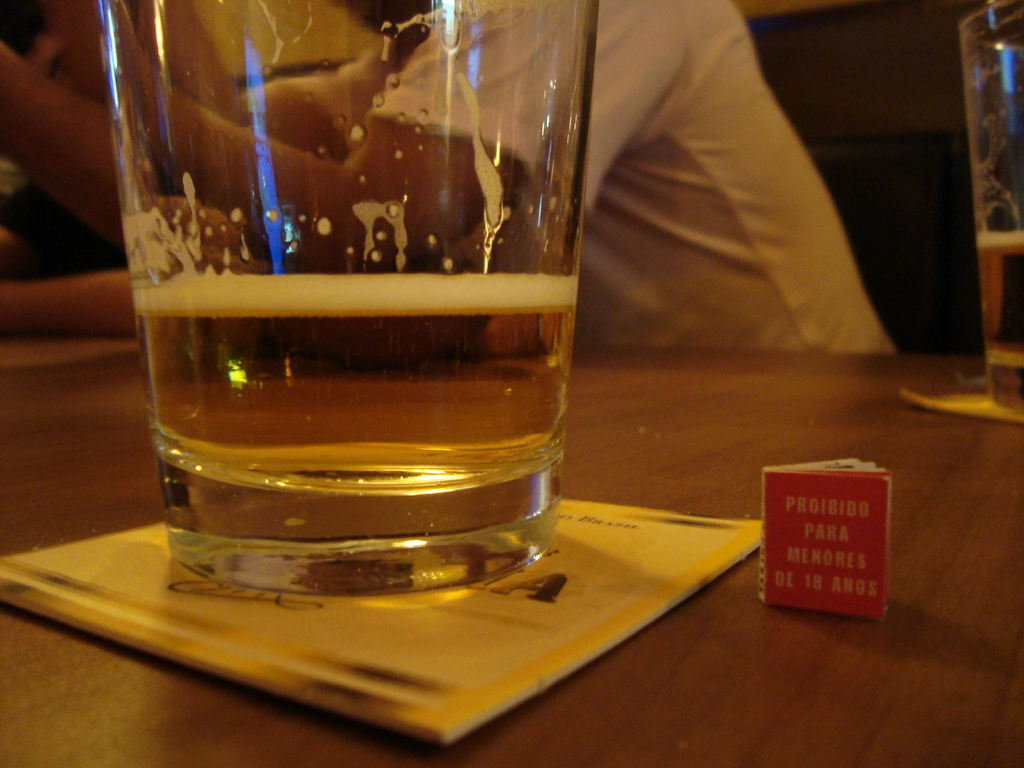Beer: (133, 268, 580, 547)
